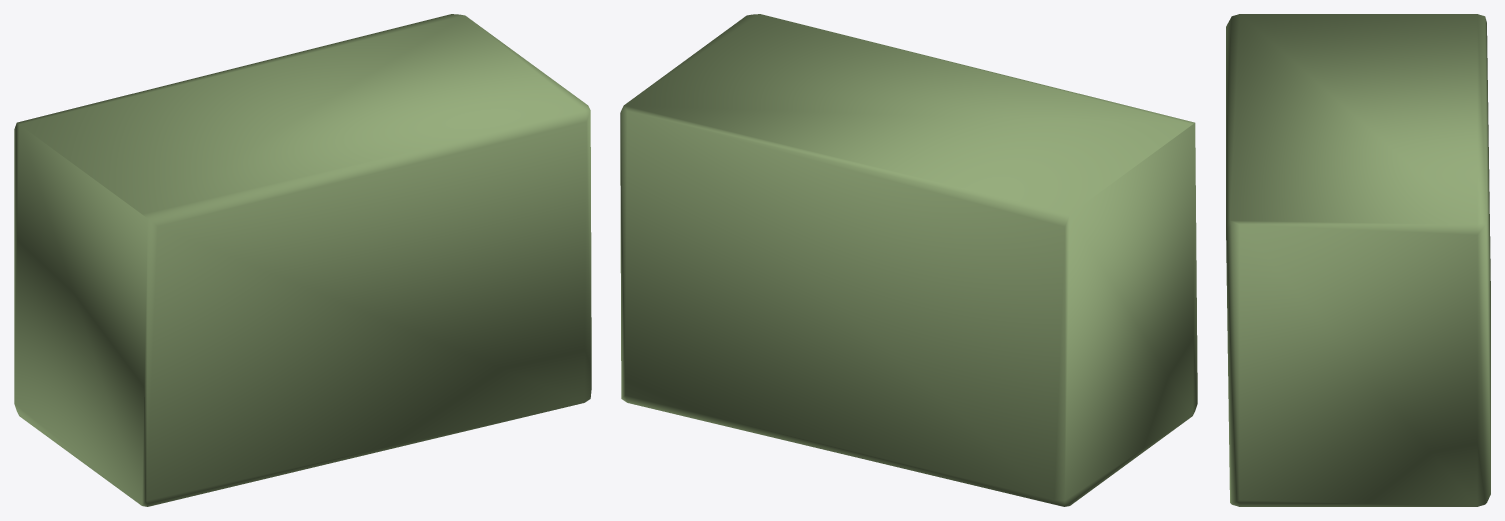
The model's file is display_promo_basket.glb.
The picture shows the model from 3 angles, left to right: view 1: azimuth 30°, elevation 25°; view 2: azimuth 150°, elevation 25°; view 3: azimuth 270°, elevation 25°; orthographic projection. The views are drawn at different scales.
Visible parts, largest first — view 1: Basket; view 2: Basket; view 3: Basket.
Part boxes in pixels (bbox=[...]): Basket: bbox=[14, 14, 591, 506]; Basket: bbox=[620, 14, 1197, 506]; Basket: bbox=[1226, 14, 1490, 506].
Size of the model in its own units: 1.29 by 0.7994 by 0.6801.
